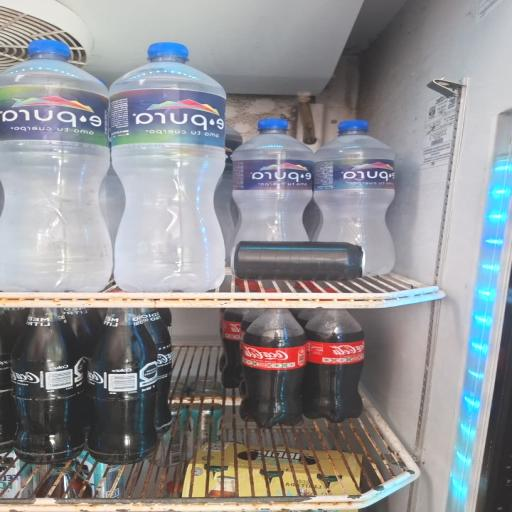LATA: (218, 235, 373, 288)
